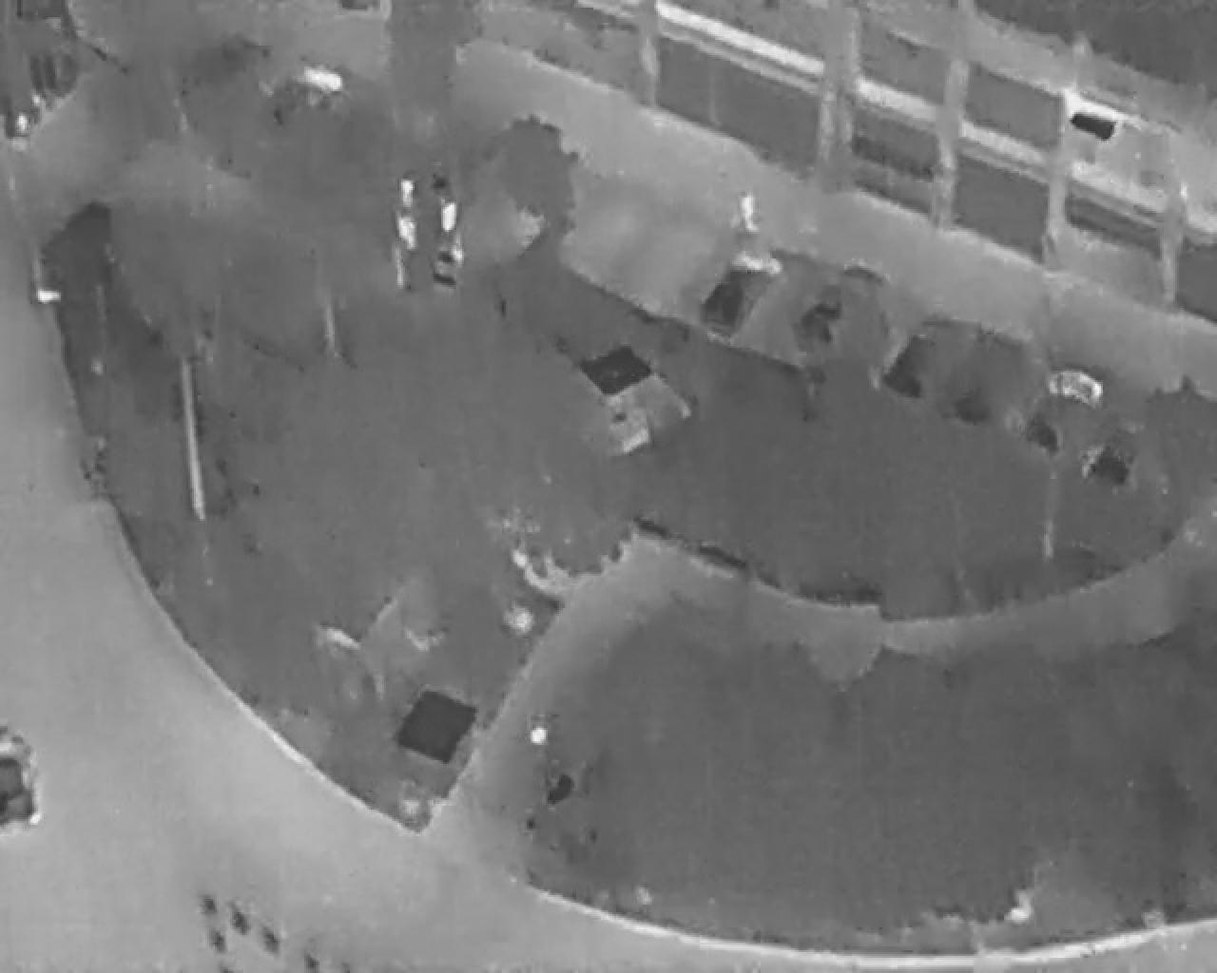person: (731, 191, 763, 237)
